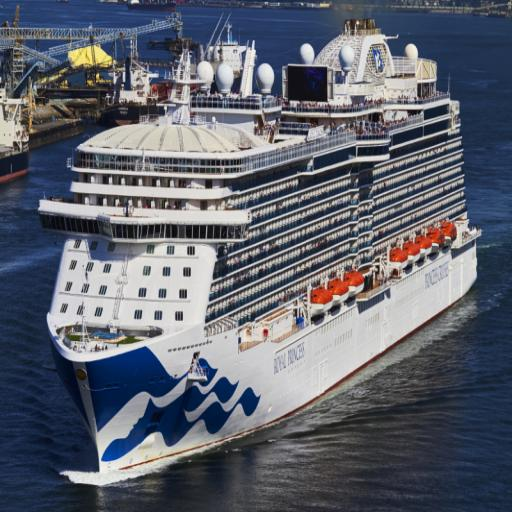cruises: (36, 12, 484, 488)
